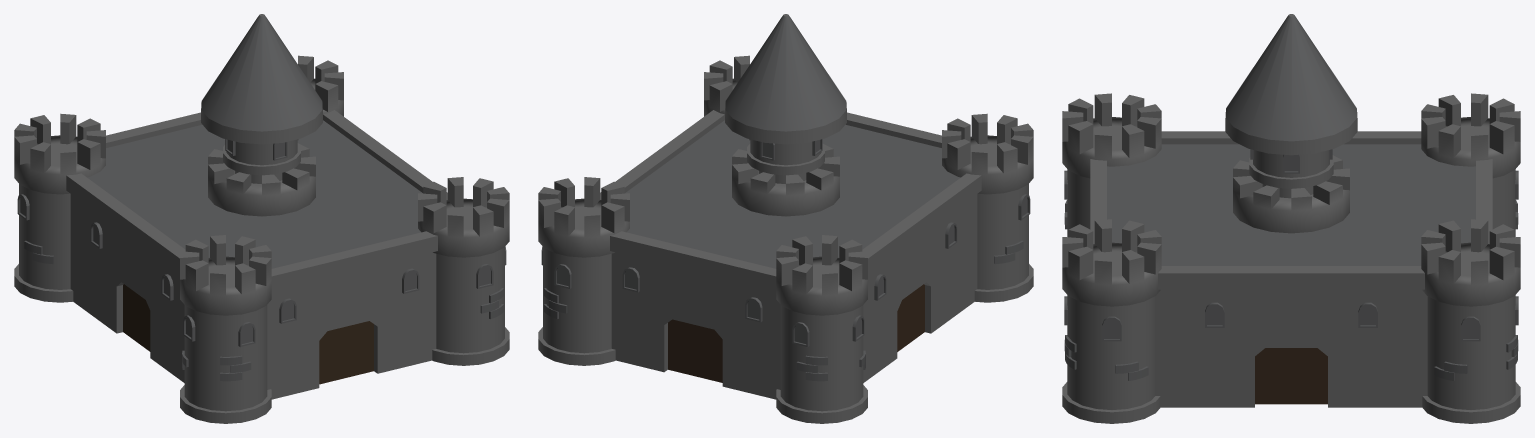
The model's file is Castle.fbx.
3 views of the same model, side by side, from view 1: azimuth 30°, elevation 25°; view 2: azimuth 150°, elevation 25°; view 3: azimuth 270°, elevation 25° (orthographic). The views are drawn at different scales.
Parts seen in each view (by area): view 1: Castle; view 2: Castle; view 3: Castle.
Boxes of the visible parts, bbox=[...] form: Castle: bbox=[14, 14, 509, 423]; Castle: bbox=[538, 14, 1033, 423]; Castle: bbox=[1062, 14, 1520, 423].
Bounding box in the file's own units: 42.31 × 38.01 × 48.66.
